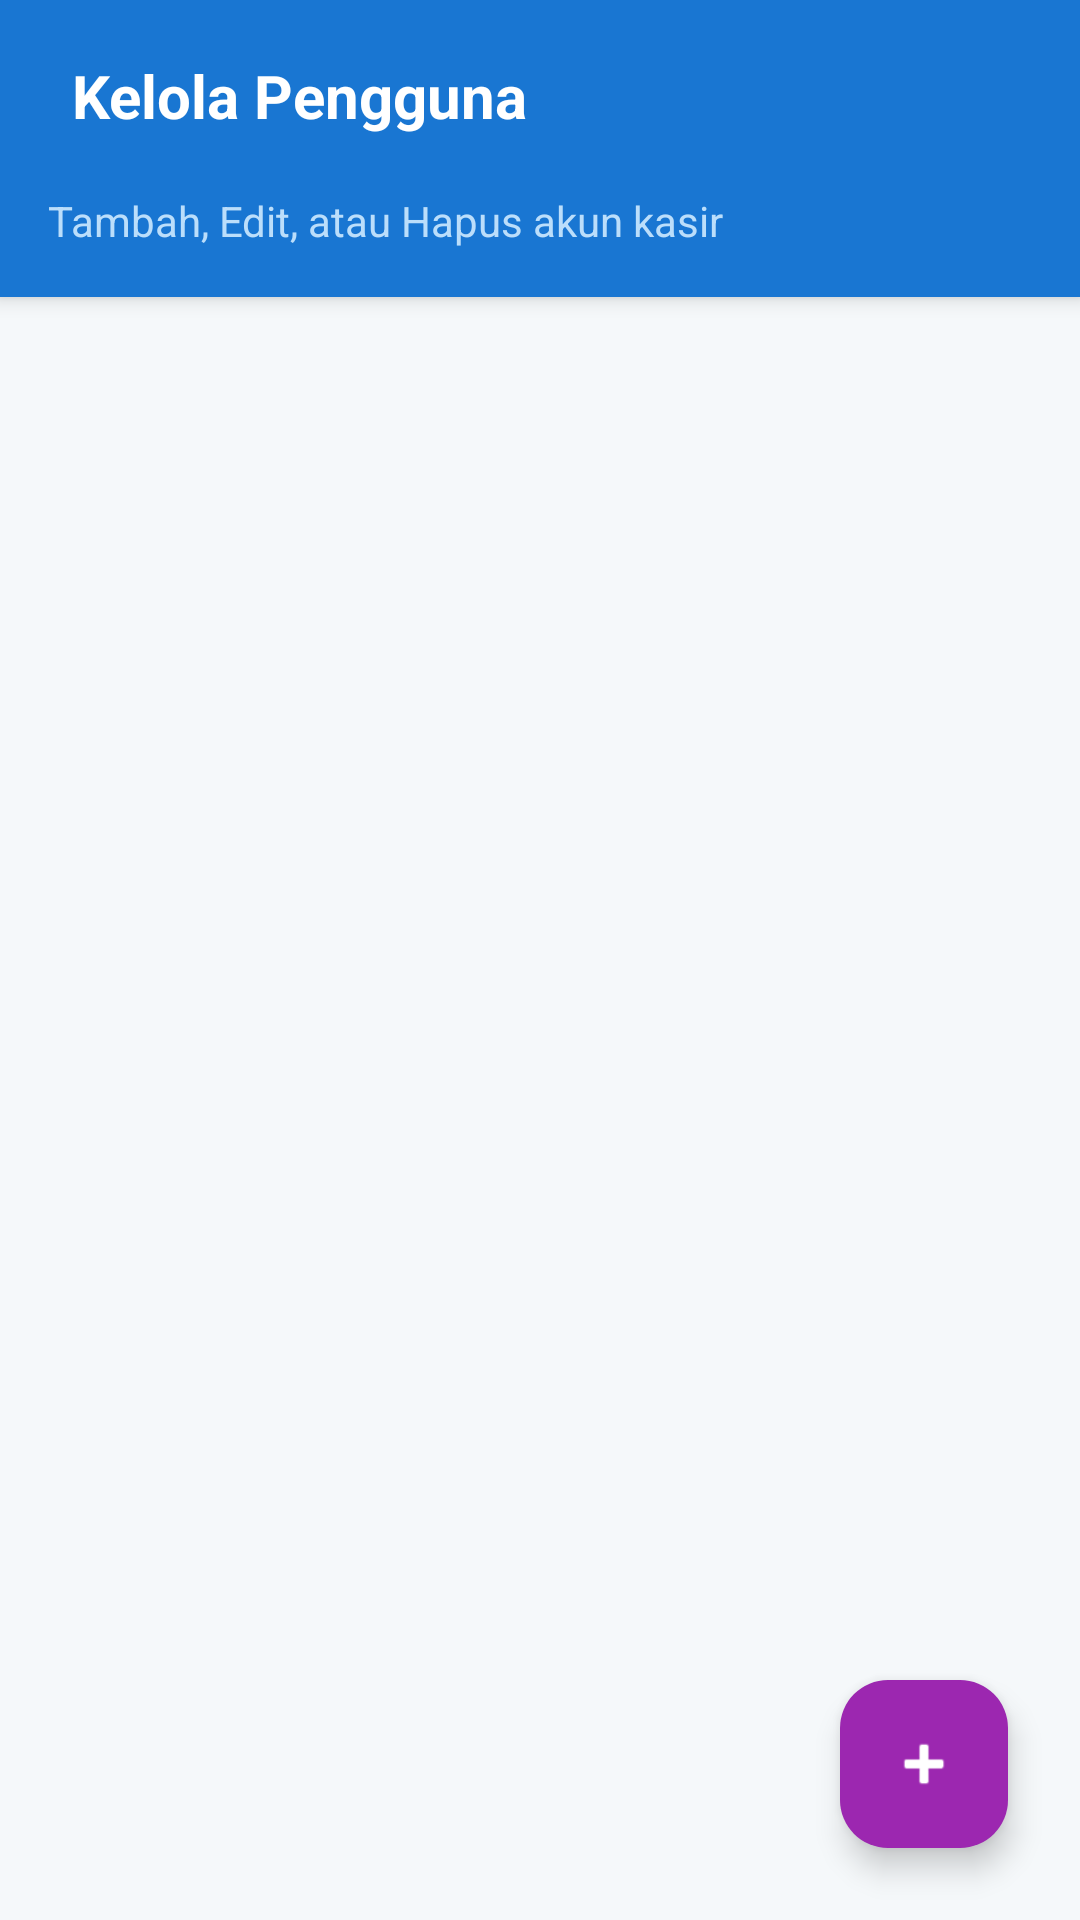

Where icons sit on this 1080x1920 app screen, as bbox(x1, y1, x2, y2):
Tambah User: bbox(840, 1680, 1008, 1848)
